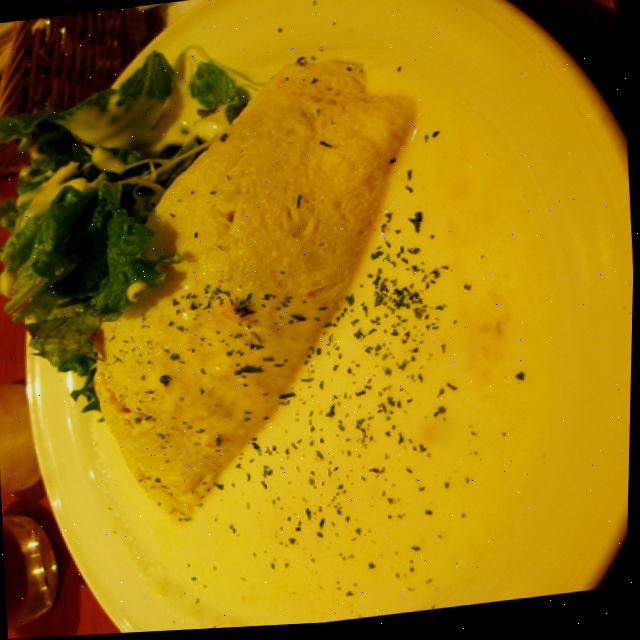鸡蛋料理: (0, 45, 461, 558)
